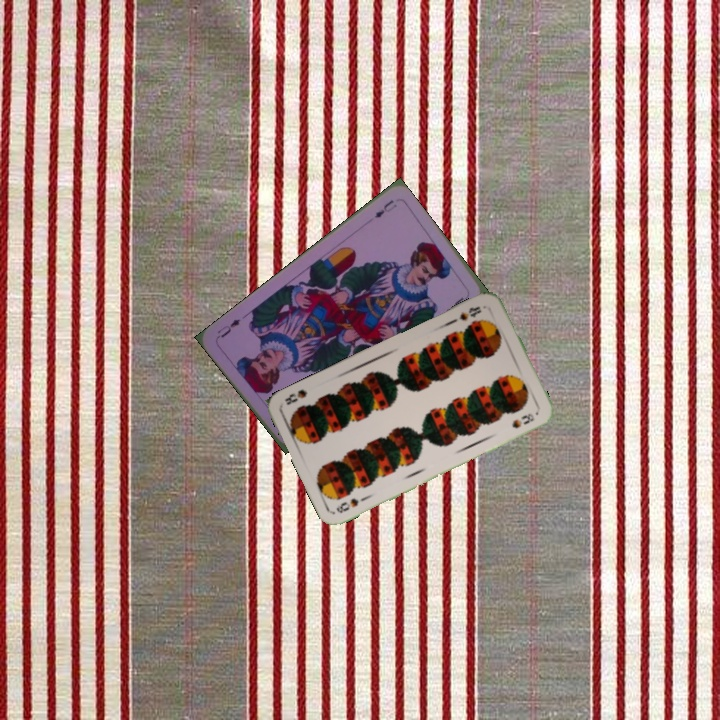EU: (370, 195, 399, 221)
S8: (332, 492, 371, 516), (455, 302, 484, 324)
